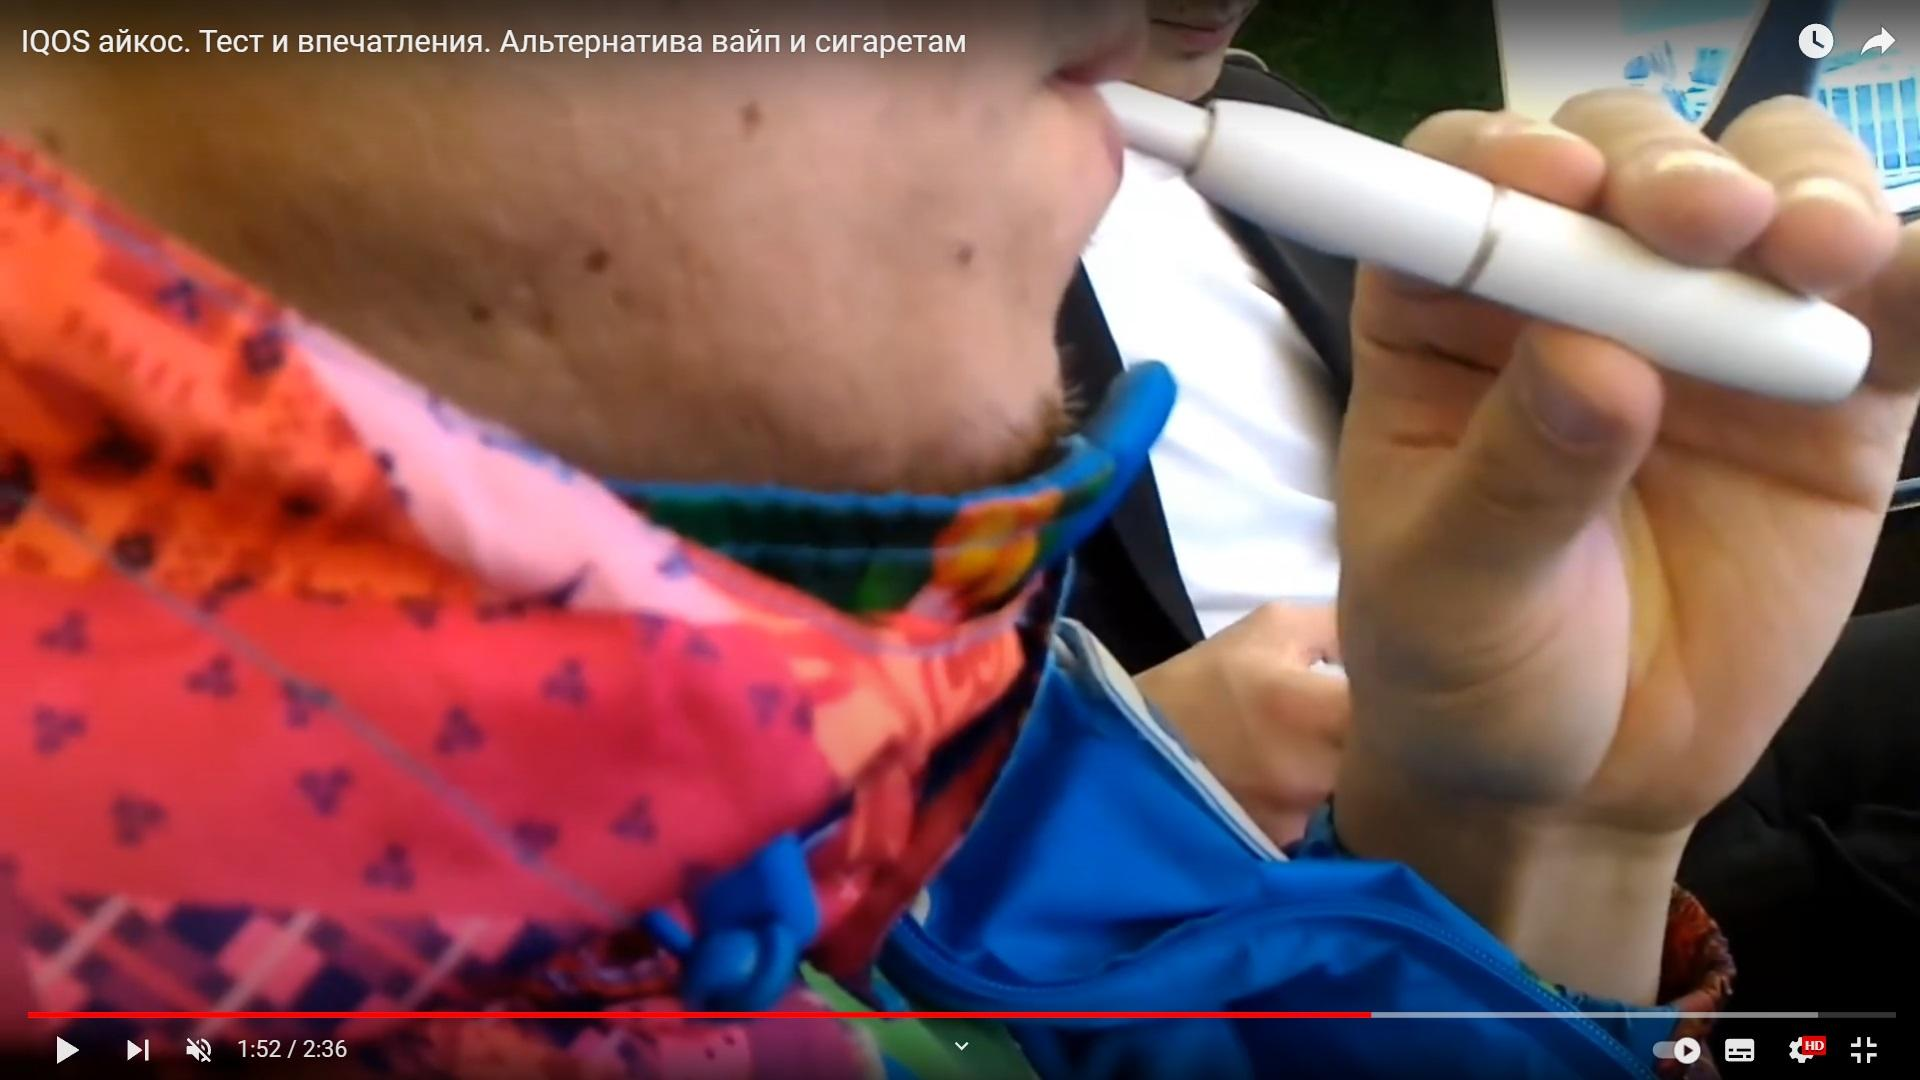iqos: (1105, 84, 1867, 402)
